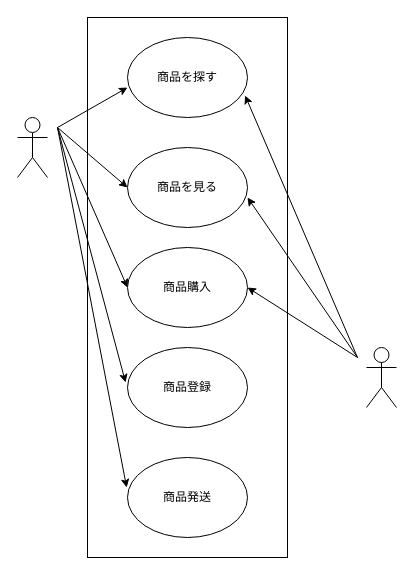
Some shapes in this 414 by 575 pixel diagram are drawn without their labels. The shapes that lost their labels are listed below. From the top down, each one's centre as x and y in pixels, then its label:
the point at 32,147: 管理者
the point at 381,377: 購入者
